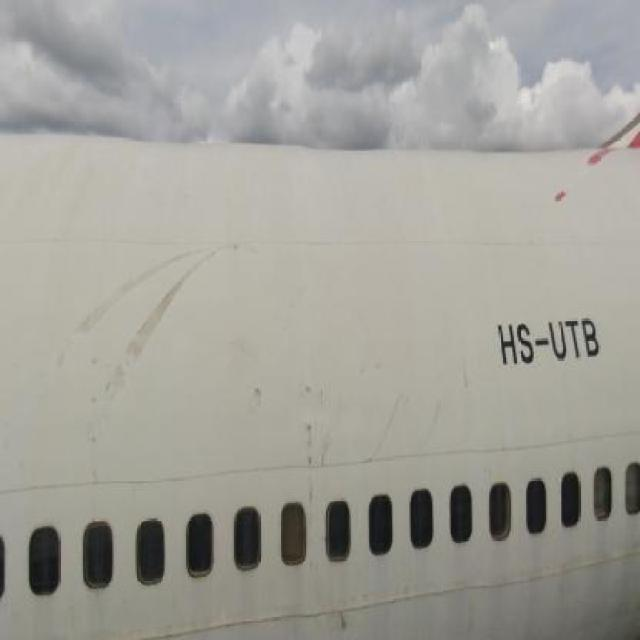Scartch: (283, 364, 337, 494), (332, 601, 356, 636)
